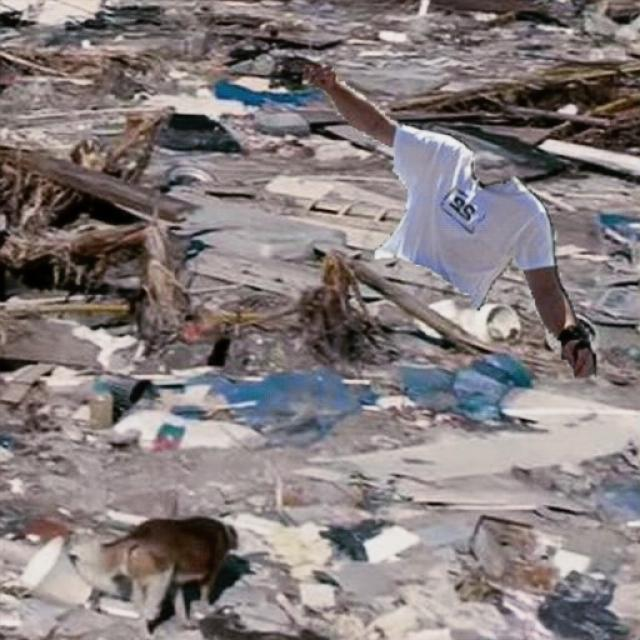Person in Rubble: (302, 65, 596, 376)
